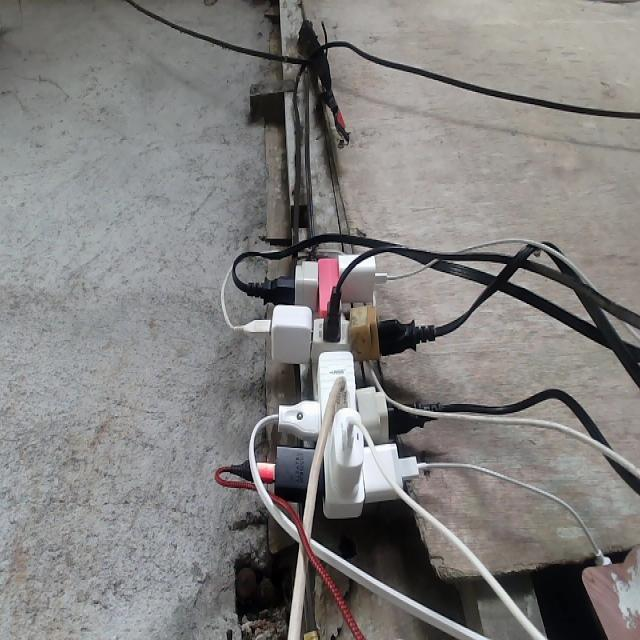-: (254, 248, 411, 519)
